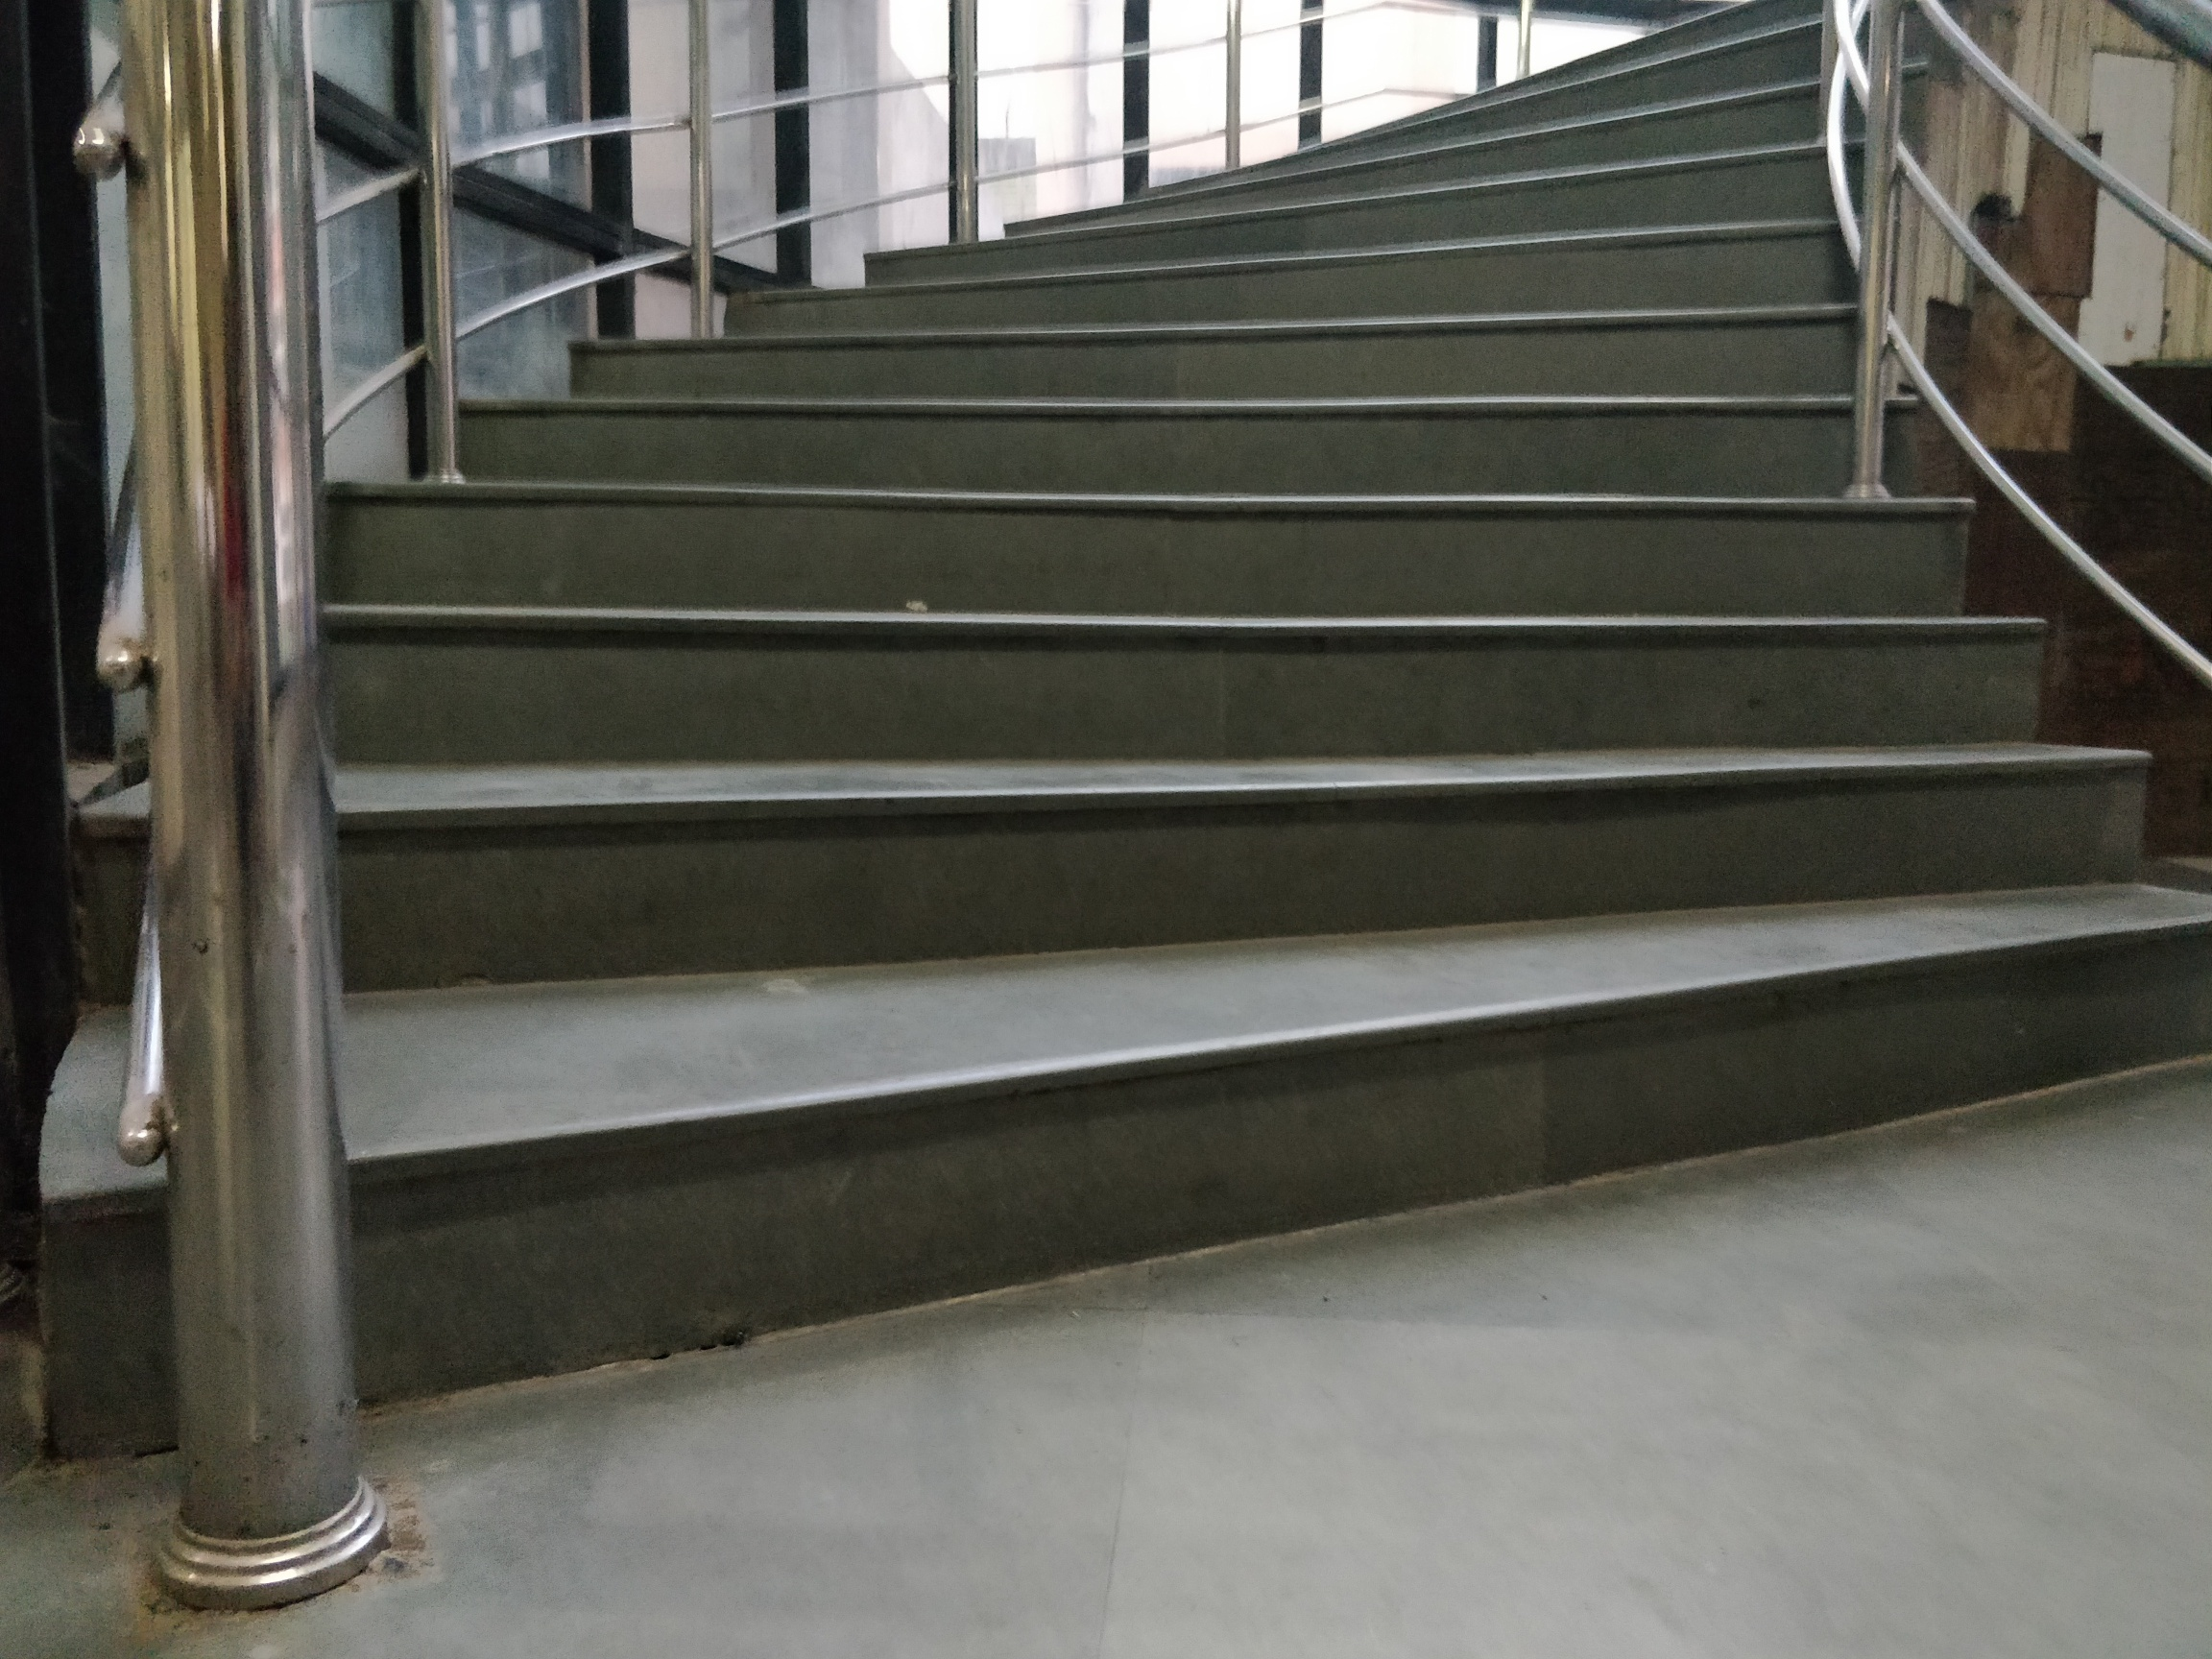stairs_up: (319, 239, 2181, 1227)
